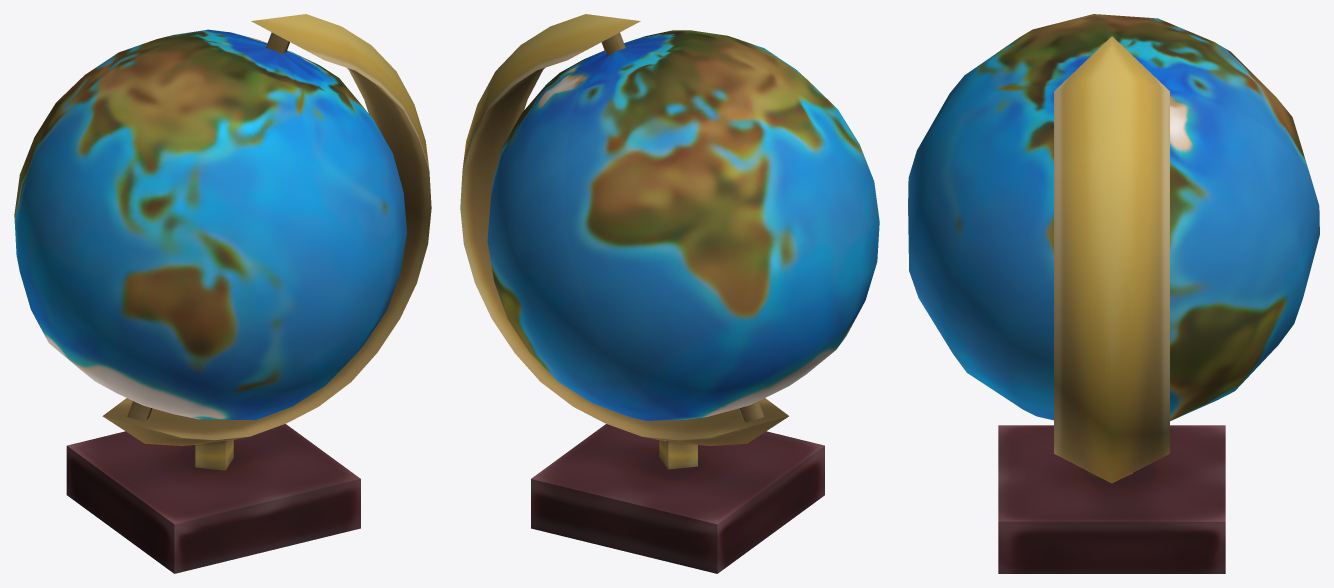
File: Globe_HD.fbx
3 views of the same model, side by side, from view 1: azimuth 30°, elevation 25°; view 2: azimuth 150°, elevation 25°; view 3: azimuth 270°, elevation 25° (orthographic). The views are drawn at different scales.
Parts seen in each view (by area): view 1: Globe_pol; view 2: Globe_pol; view 3: Globe_pol.
Boxes of the visible parts, bbox=[...] form: Globe_pol: bbox=[14, 14, 431, 573]; Globe_pol: bbox=[460, 14, 879, 573]; Globe_pol: bbox=[908, 14, 1319, 573].
Size of the model in its own units: 0.4837 by 0.573 by 0.4205.
